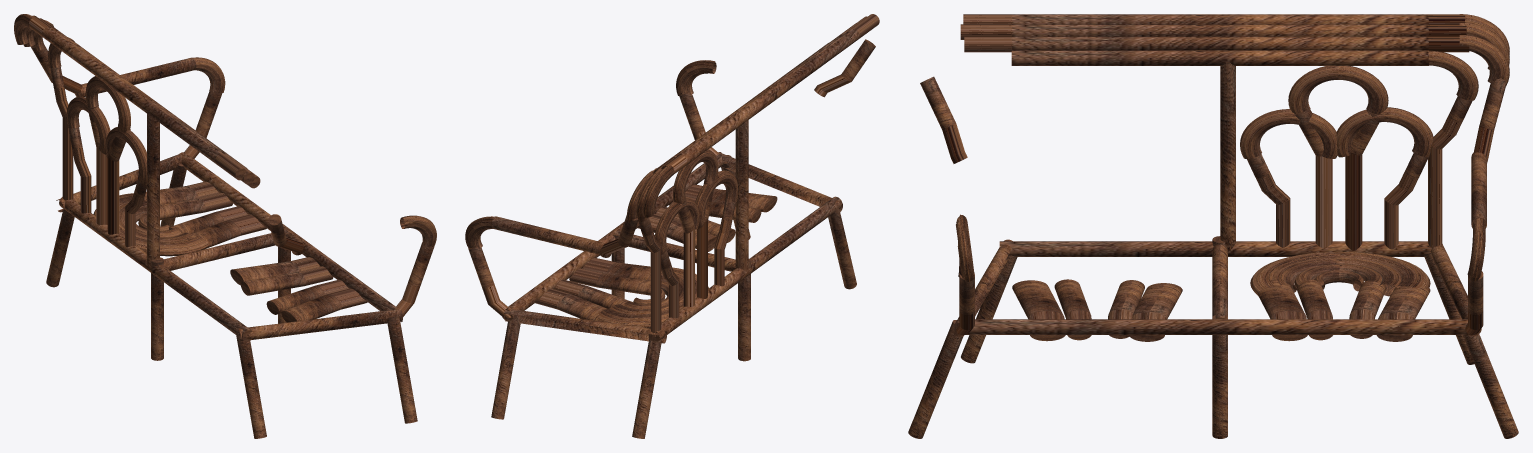
The model's file is chaise.gltf.
3 views of the same model, side by side, from view 1: azimuth 30°, elevation 25°; view 2: azimuth 150°, elevation 25°; view 3: azimuth 270°, elevation 25° (orthographic). The views are drawn at different scales.
Visible parts, largest first — view 1: Cylindre.007, Cylindre.004, Cylindre.001, Cylindre.012, Cylindre, Cylindre.014, Cylindre.020, Cylindre.026, Cylindre.032, Cylindre.022, Cylindre.008, Cylindre.005 (+26 smaller); view 2: Cylindre.007, Cylindre.001, Cylindre.004, Cylindre.013, Cylindre, Cylindre.003, Cylindre.021, Cylindre.008, Cylindre.023, Cylindre.012, Cylindre.029, Cylindre.002 (+25 smaller); view 3: Cylindre.007, Cylindre.004, Cylindre.001, Cylindre, Torus.001, Cylindre.008, Cylindre.002, Torus.012, Cylindre.005, Torus.002, Torus, Cylindre.020 (+30 smaller).
Boxes of the visible parts, bbox=[...] form: Cylindre.007: bbox=[29, 15, 260, 188]; Cylindre.004: bbox=[179, 152, 397, 311]; Cylindre.001: bbox=[59, 197, 252, 341]; Cylindre.012: bbox=[238, 309, 402, 341]; Cylindre: bbox=[147, 114, 159, 266]; Cylindre.014: bbox=[163, 229, 288, 270]; Cylindre.020: bbox=[387, 315, 417, 423]; Cylindre.026: bbox=[281, 288, 367, 322]; Cylindre.032: bbox=[241, 266, 333, 295]; Cylindre.022: bbox=[236, 333, 266, 438]; Cylindre.008: bbox=[50, 67, 73, 200]; Cylindre.005: bbox=[107, 127, 130, 234]; Cylindre.007: bbox=[653, 14, 879, 174]; Cylindre.001: bbox=[648, 196, 841, 342]; Cylindre.004: bbox=[502, 153, 724, 321]; Cylindre.013: bbox=[504, 309, 666, 343]; Cylindre: bbox=[735, 120, 748, 271]; Cylindre.003: bbox=[491, 216, 605, 254]; Cylindre.021: bbox=[491, 315, 521, 419]; Cylindre.008: bbox=[638, 217, 661, 337]; Cylindre.023: bbox=[632, 338, 661, 438]; Cylindre.012: bbox=[718, 152, 842, 211]; Cylindre.029: bbox=[569, 268, 650, 295]; Cylindre.002: bbox=[678, 201, 694, 306]; Cylindre.007: bbox=[960, 14, 1469, 65]; Cylindre.004: bbox=[966, 319, 1477, 334]; Cylindre.001: bbox=[999, 241, 1431, 256]; Cylindre: bbox=[1220, 62, 1235, 251]; Torus.001: bbox=[1288, 66, 1388, 114]; Cylindre.008: bbox=[1428, 96, 1472, 247]; Cylindre.002: bbox=[1345, 110, 1379, 250]; Torus.012: bbox=[1250, 252, 1430, 295]; Cylindre.005: bbox=[1294, 109, 1332, 247]; Torus.002: bbox=[1336, 107, 1433, 157]; Torus: bbox=[1240, 109, 1337, 158]; Cylindre.020: bbox=[908, 320, 962, 438].
Bounding box in the file's own units: 10.81 × 14.14 × 23.43.
Materials: 2 (2 with a texture image).
